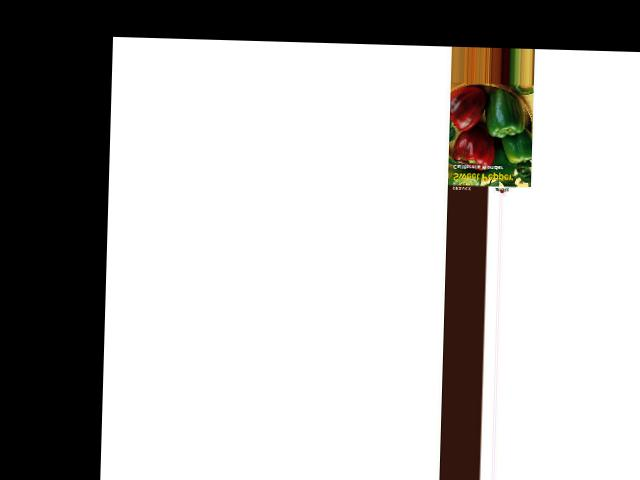bell_pepper: (504, 122, 534, 167)
